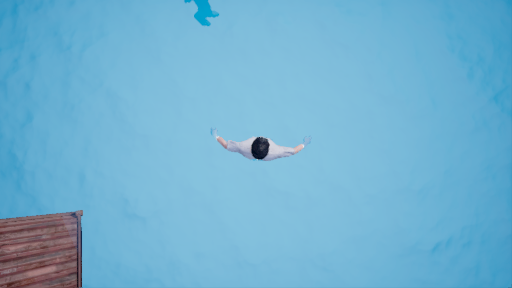person: (215, 124, 312, 170)
